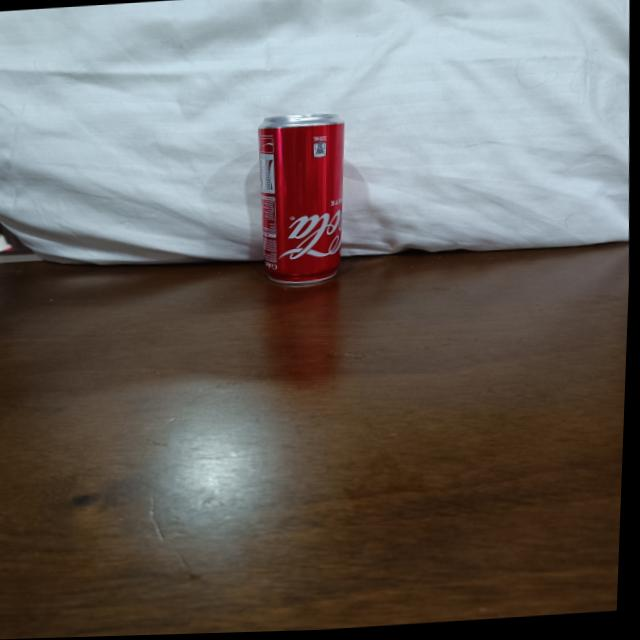coke: (254, 110, 355, 294)
